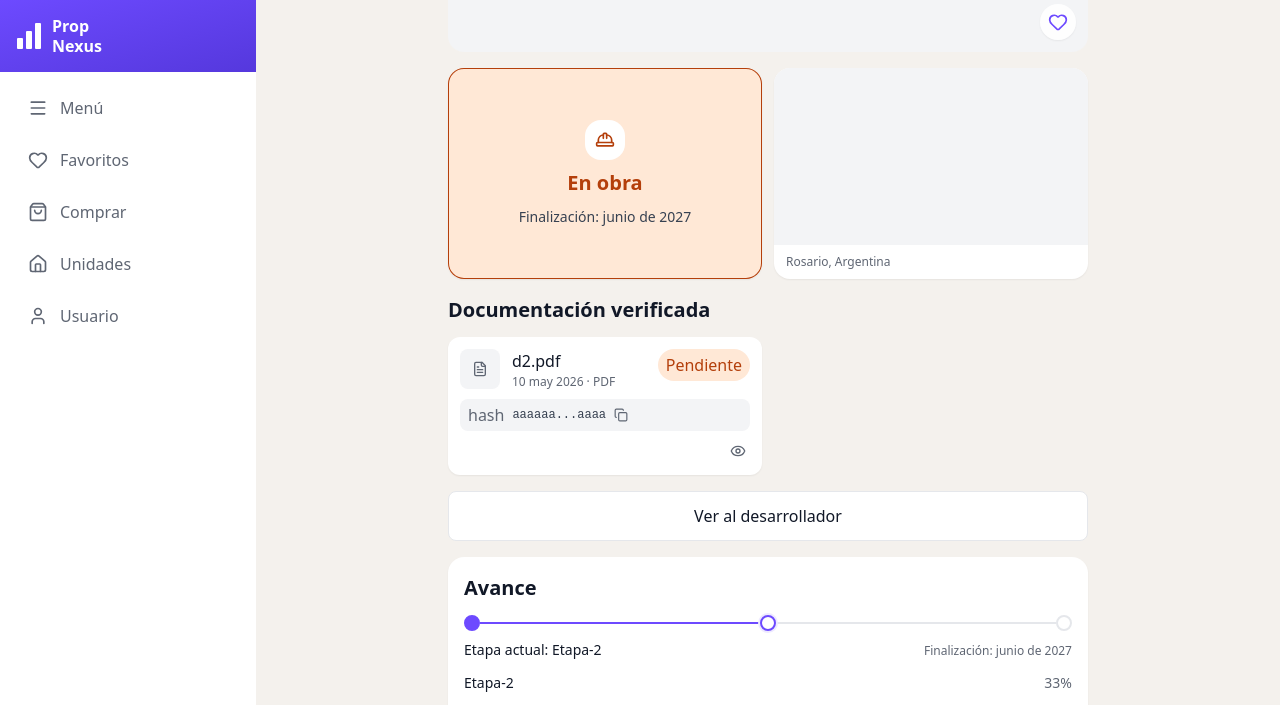
Test: /project/:projectId (investor) › abrir un documento sin anclar muestra el visor Pendiente, sin descarga, y Escape lo cierra
(page scrolled)
Click the button "d2.pdf": coordinates (579, 361) [512,349,646,373]
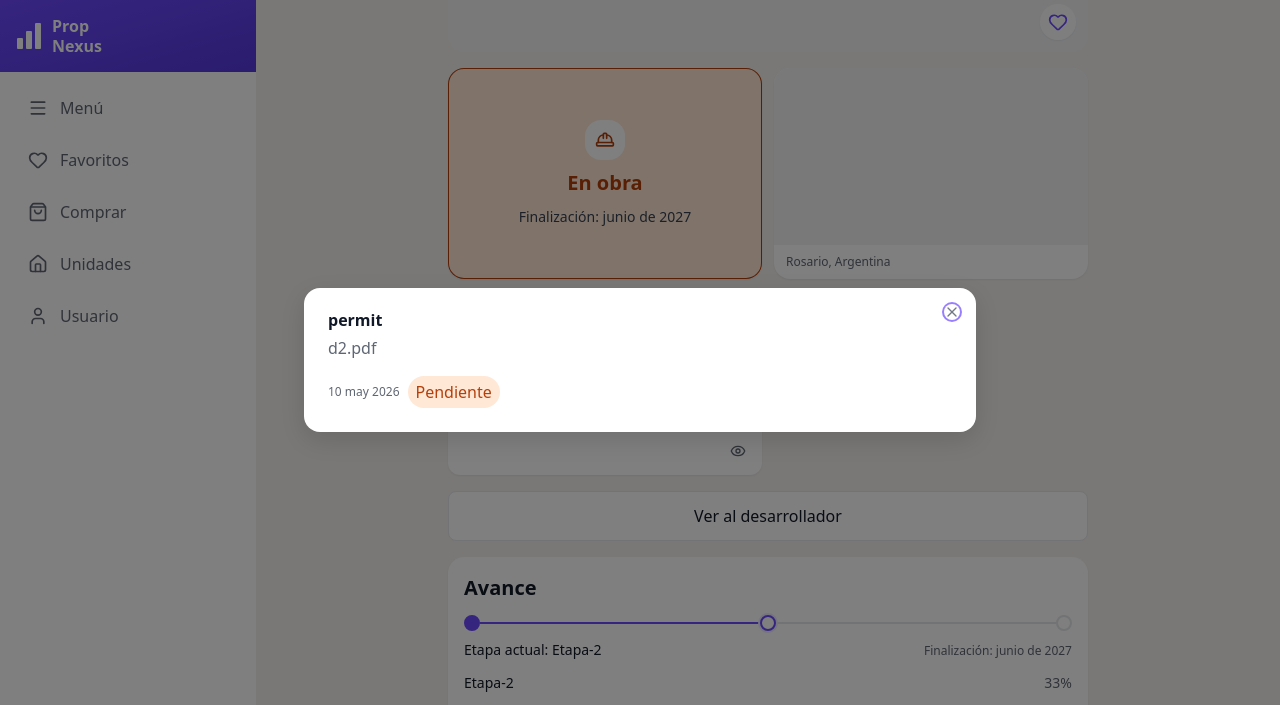
Expected: the dialog shows "Pendiente", [416,381,492,403]
Press Escape in the button, box [944,304,960,320]
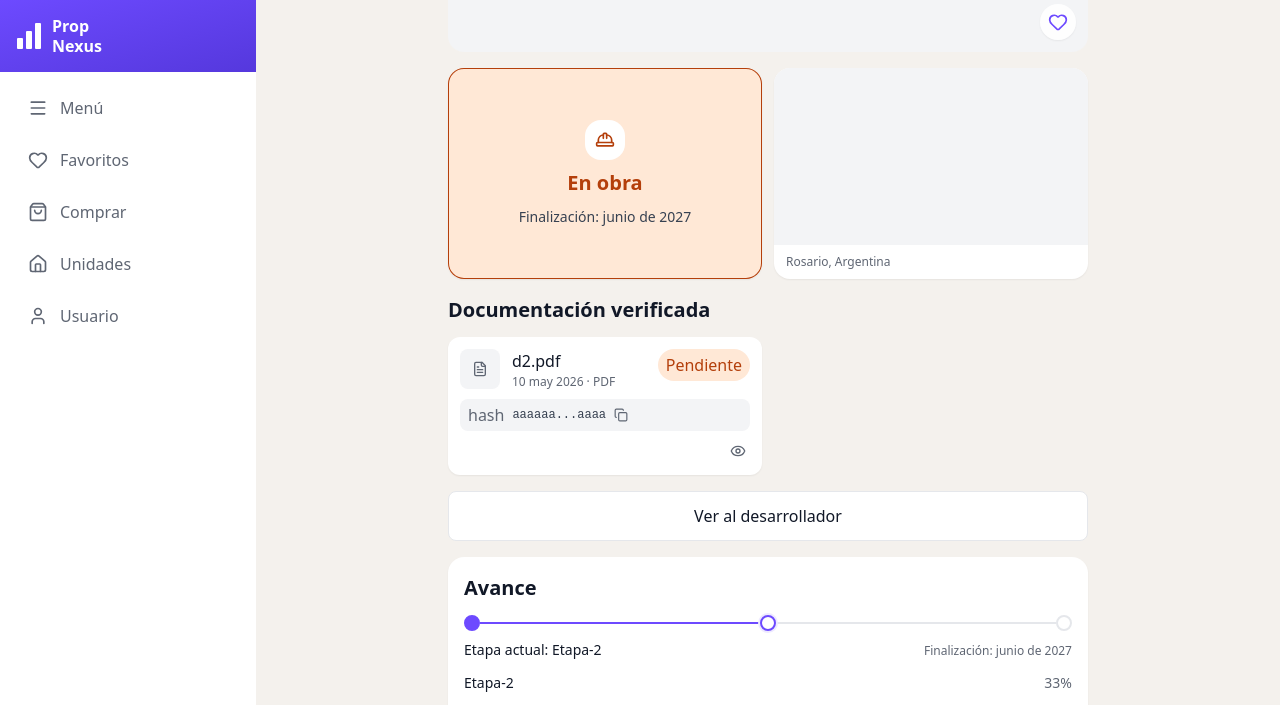
Expected: the dialog is gone
